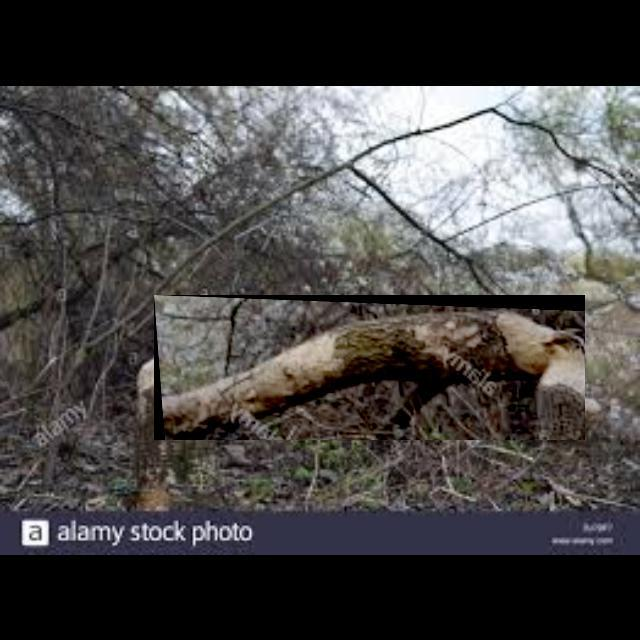fallen_tree: (154, 295, 586, 441)
